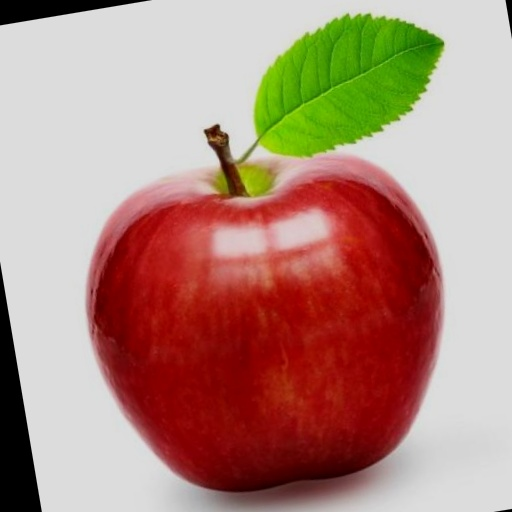fruit: (86, 154, 442, 491)
